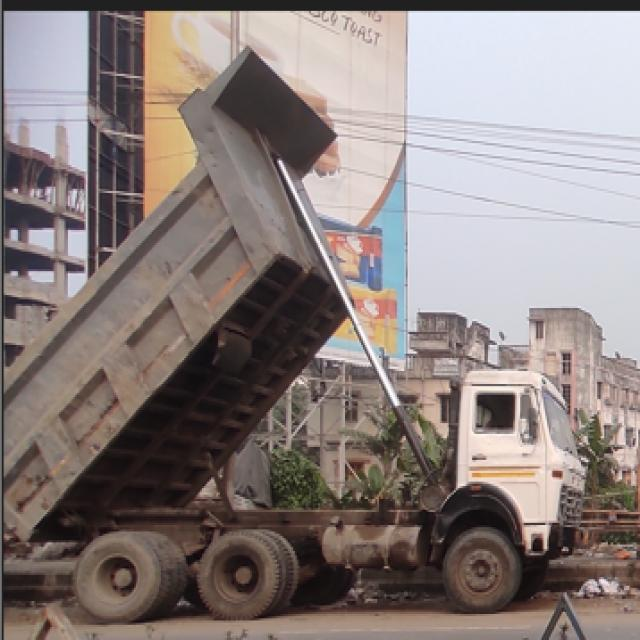truck: (5, 45, 592, 625)
